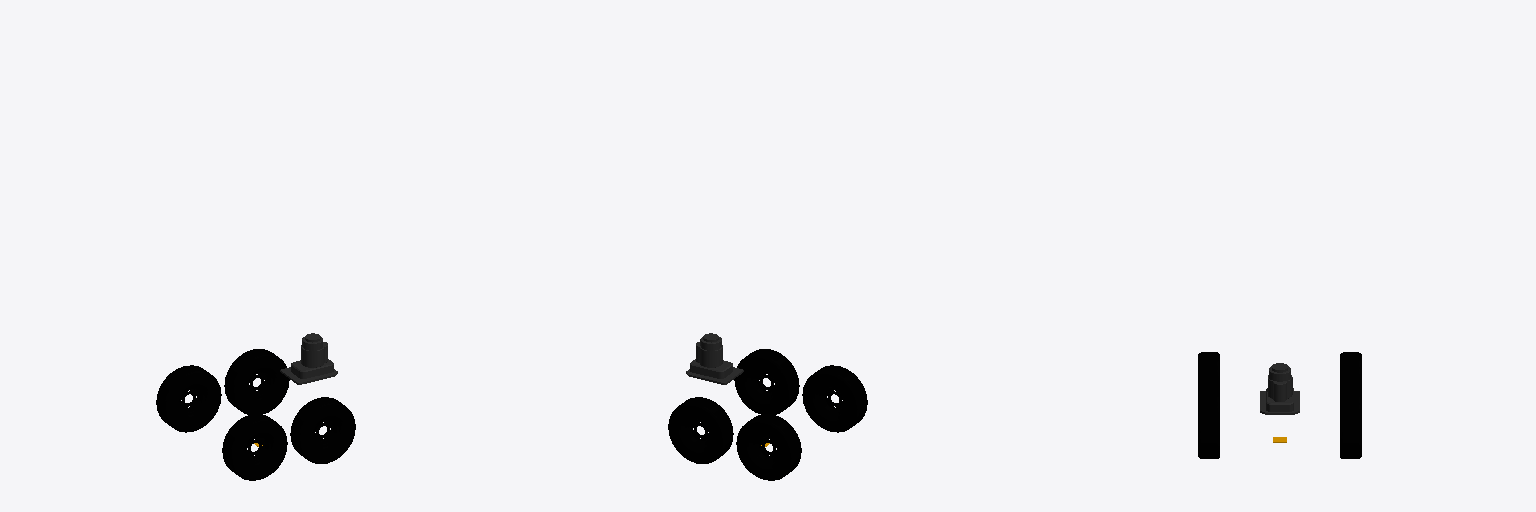
robot.urdf — WPV4_WPM2:
<?xml version="1.0"?>
<robot name="WPV4_WPM2">

  <!-- material -->
  <material name = "black">
    <color rgba = "0.01 0.01 0.01 1"/>
  </material>
  <material name = "grey">
    <color rgba = "0.2 0.2 0.2 1"/>
  </material>
  <material name = "light_grey">
    <color rgba = "0.5 0.5 0.5 1"/>
  </material>
  <material name = "blue">
    <color rgba = "0.2 0.2 0.9 1"/>
  </material>


<link name="base_footprint">
    <visual>
      <origin xyz="0 0 0" rpy="0 0 0" />
      <geometry>
        <box size="0.05 0.05 0.001" />
      </geometry>
      <material name="TransparentGreen" />
    </visual>
    <collision>
      <origin xyz="0 0 .1" rpy="0 0 0" />
      <geometry>
        <box size="0.76 0.5 .2"/>
      </geometry>
    </collision>
    <inertial>
    <mass value="10"/>
    <inertia ixx="0.4" ixy="0.0" ixz="0.0" iyy="0.4" iyz="0.0" izz="0.2"/>
    </inertial>
</link>

<joint name="base_joint" type="fixed">
  <origin xyz="0 0 0.09" rpy="0 0 0" />
  <parent link="base_footprint"/>
  <child link="base_link" />
</joint>

  <!-- base -->
  <link name="base_link">
  <visual>
   <geometry>
    <cylinder length="0.6" radius="0.0"/>
   </geometry>
   <origin rpy = "0 0 0" xyz = "0 0 0"/>
  </visual>
  </link>

  <!-- body -->
  <link name = "body_link">
    <visual>
      <geometry>
        <mesh filename="package://wpv4_bringup/meshes/body.dae" scale="1 1 1"/>
      </geometry>
      <origin rpy = "1.57 0 1.57" xyz = "-0.38 -0.25 0"/>
    </visual>
    <collision>
      <origin xyz="0 0 .15" rpy="0 0 0" />
      <geometry>
        <box size="0.76 0.5 0.095"/>
      </geometry>
    </collision>
    <inertial>
    <mass value="10"/>
    <inertia ixx="0.4" ixy="0.0" ixz="0.0" iyy="0.4" iyz="0.0" izz="0.2"/>
    </inertial>
  </link>
  <joint name = "base_to_body" type = "fixed">
    <parent link = "base_link"/>
    <child link = "body_link"/>
    <origin rpy="0 0 0" xyz="0 0 0"/> <!--pos-->
  </joint>
  <gazebo reference = "body_link">
            <turnGravityOff>false</turnGravityOff>
  </gazebo>

  <!-- wheel -->
  <link name = "lf_wheel">
    <visual>
      <geometry>
        <mesh filename="package://wpv4_bringup/meshes/wheel.dae" scale="1 1 1"/>
      </geometry>
      <origin rpy = "0 0 0" xyz = "-0.13  -0.04 -0.13"/>
      <material name = "black"/>
    </visual>
    <collision>
      <origin xyz="0 0 0" rpy="1.57 0 0" />
      <geometry>
        <cylinder radius="0.13" length="0.08"/>
      </geometry>
    </collision>
    <inertial>
    <mass value="10"/>
    <inertia ixx="0.4" ixy="0.0" ixz="0.0" iyy="0.4" iyz="0.0" izz="0.2"/>
    </inertial>
  </link>
  <joint name = "base_to_lf_wheal" type = "continuous">
    <axis rpy="0 0 0" xyz="0 1 0"/>
    <parent link = "base_link"/>
    <child link = "lf_wheel"/>
    <origin rpy="0 0 0" xyz="0.135 0.26 0.038"/> <!--pos to base-->
  </joint>
   <gazebo reference = "lf_wheel">
            <mu1 value = "1.0"/>
            <mu2 value = "1.0"/>
            <kp value = "10.0"/>
            <kd value = "1.0"/>
            <fdir1 value = "1 0 0"/>
            <turnGravityOff>true</turnGravityOff>
  </gazebo>

<link name = "rf_wheel">
  <visual>
    <geometry>
      <mesh filename="package://wpv4_bringup/meshes/wheel.dae" scale="1 1 1"/>
    </geometry>
    <origin rpy = "0 0 0" xyz = "-0.13  -0.04 -0.13"/>
    <material name = "black"/>
  </visual>
  <collision>
    <origin xyz="0 0 0" rpy="1.57 0 0" />
    <geometry>
      <cylinder radius="0.13" length="0.08"/>
    </geometry>
  </collision>
  <inertial>
  <mass value="10"/>
  <inertia ixx="0.4" ixy="0.0" ixz="0.0" iyy="0.4" iyz="0.0" izz="0.2"/>
  </inertial>
</link>
<joint name = "base_to_rf_wheal" type = "continuous">
  <axis rpy="0 0 0" xyz="0 -1 0"/>
  <parent link = "base_link"/>
  <child link = "rf_wheel"/>
  <origin rpy="0 0 3.14" xyz="0.135 -0.26 0.038"/> <!--pos-->
</joint>
 <gazebo reference = "rf_wheel">
            <mu1 value = "1.0"/>
            <mu2 value = "1.0"/>
            <kp value = "10.0"/>
            <kd value = "1.0"/>
            <fdir1 value = "1 0 0"/>
            <turnGravityOff>false</turnGravityOff>
        </gazebo>

<link name = "lb_wheel">
  <visual>
    <geometry>
      <mesh filename="package://wpv4_bringup/meshes/wheel.dae" scale="1 1 1"/>
    </geometry>
    <origin rpy = "0 0 0" xyz = "-0.13  -0.04 -0.13"/>
    <material name = "black"/>
  </visual>
  <collision>
    <origin xyz="0 0 0" rpy="1.57 0 0" />
    <geometry>
      <cylinder radius="0.13" length="0.08"/>
    </geometry>
  </collision>
  <inertial>
  <mass value="10"/>
  <inertia ixx="0.4" ixy="0.0" ixz="0.0" iyy="0.4" iyz="0.0" izz="0.2"/>
  </inertial>
</link>
<joint name = "base_to_lb_wheal" type = "continuous">
  <axis rpy="0 0 0" xyz="0 1 0"/>
  <parent link = "base_link"/>
  <child link = "lb_wheel"/>
  <origin rpy="0 0 0" xyz="-0.175 0.26 0.038"/> <!--pos to base-->
</joint>
 <gazebo reference = "lb_wheel">
            <mu1 value = "1.0"/>
            <mu2 value = "1.0"/>
            <kp value = "10.0"/>
            <kd value = "1.0"/>
            <fdir1 value = "1 0 0"/>
            <material>Gazebo/Black</material>
            <turnGravityOff>false</turnGravityOff>
        </gazebo>

<link name = "rb_wheel">
  <visual>
    <geometry>
      <mesh filename="package://wpv4_bringup/meshes/wheel.dae" scale="1 1 1"/>
    </geometry>
    <origin rpy = "0 0 0" xyz = "-0.13  -0.04 -0.13"/>
    <material name = "black"/>
  </visual>
  <collision>
    <origin xyz="0 0 0" rpy="1.57 0 0" />
    <geometry>
      <cylinder radius="0.13" length="0.08"/>
    </geometry>
  </collision>
  <inertial>
  <mass value="10"/>
  <inertia ixx="0.4" ixy="0.0" ixz="0.0" iyy="0.4" iyz="0.0" izz="0.2"/>
  </inertial>
</link>
<joint name = "base_to_rb_wheal" type = "continuous">
  <axis rpy="0 0 0" xyz="0 -1 0"/>
  <parent link = "base_link"/>
  <child link = "rb_wheel"/>
  <origin rpy="0 0 3.14" xyz="-0.175 -0.26 0.038"/> <!--pos-->
</joint>
 <gazebo reference = "rb_wheel">
            <mu1 value = "1.0"/>
            <mu2 value = "1.0"/>
            <kp value = "10.0"/>
            <kd value = "1.0"/>
            <fdir1 value = "1 0 0"/>
            <material>Gazebo/Black</material>
            <turnGravityOff>false</turnGravityOff>
        </gazebo>


<!-- ****manipulator ****-->
  <link name = "wpm2_joint_1">
    <visual>
        <geometry>
            <mesh filename="package://wpv4_bringup/meshes/m2_base.stl" scale="1 1 1"/>
        </geometry>
        <material name = "grey"/>
        <origin rpy = "1.57 0 1.57" xyz = "-0.16 -0.075 0"/>
    </visual>
</link>
  <joint name = "base_mani" type = "fixed">
    <parent link = "base_link"/>
    <child link = "wpm2_joint_1"/>
    <origin xyz = "0.24 0 .16"/>
</joint>
<!-- mani_part_2 -->
  <link name = "wpm2_joint_2">
    <visual>
        <geometry>
            <mesh filename="package://wpm2_bringup/meshes/wpm2_joint_2.stl" scale="1 1 1"/>
        </geometry>
        <material name = "light_grey"/>
        <origin rpy = "-1.57 0 1.57" xyz = "0.135 -0.07 0.1285"/>
    </visual>
</link>
    <joint name = "joint1_joint2" type = "revolute">
    <parent link = "wpm2_joint_1"/>
    <child link = "wpm2_joint_2"/>
    <axis xyz = "0 0 1"/>
    <origin xyz = "0 0 0.1585"/>
    <limit effort = "1000.0" lower="-3.14" upper="3.14" velocity="0.5"/>
</joint>

<!-- mani_part_3 -->
<link name = "wpm2_joint_3">
    <visual>
        <geometry>
            <mesh filename="package://wpm2_bringup/meshes/wpm2_joint_3.stl" scale="1 1 1"/>
        </geometry>
        <material name = "grey"/>
        <origin rpy = "1.57 0 1.57" xyz = "-0.12 -0.08 -0.048"/>
    </visual>
</link>
    <joint name = "joint2_joint3" type = "revolute">
    <parent link = "wpm2_joint_2"/>
    <child link = "wpm2_joint_3"/>
    <axis xyz = "0 -1 0"/>
    <origin xyz = "0 0 0.0825"/>
    <limit effort = "1000.0" lower="-3.14" upper="3.14" velocity="0.5"/>
</joint>

<!-- mani_part_4 -->
<link name = "wpm2_joint_4">
    <visual>
        <geometry>
            <mesh filename="package://wpm2_bringup/meshes/wpm2_joint_4.stl" scale="1 1 1"/>
        </geometry>
        <material name = "light_grey"/>
        <origin rpy = "0 1.57 0" xyz = "-0.116 -0.057 0.122"/>
    </visual>
</link>
    <joint name = "joint3_joint4" type = "revolute">
    <parent link = "wpm2_joint_3"/>
    <child link = "wpm2_joint_4"/>
    <axis xyz = "0 0 1"/>
    <origin xyz = "0 0 0.197"/>
    <limit effort = "1000.0" lower="-3.14" upper="3.14" velocity="0.5"/>
</joint>

<!-- mani_part_5 -->
<link name = "wpm2_joint_5">
    <visual>
        <geometry>
            <mesh filename="package://wpm2_bringup/meshes/wpm2_joint_5.stl" scale="1 1 1"/>
        </geometry>
        <material name = "grey"/>
        <origin rpy = "0 -1.57 0" xyz = "0.107 -0.053 -0.033"/>
    </visual>
</link>
    <joint name = "joint4_joint5" type = "revolute">
    <parent link = "wpm2_joint_4"/>
    <child link = "wpm2_joint_5"/>
    <axis xyz = "1 0 0"/>
    <origin xyz = "0 0 0.076"/>
    <limit effort = "1000.0" lower="-3.14" upper="3.14" velocity="0.5"/>
</joint>

<!-- mani_part_6 -->
<link name = "wpm2_joint_6">
    <visual>
        <geometry>
            <mesh filename="package://wpm2_bringup/meshes/wpm2_joint_4.stl" scale="1 1 1"/>
        </geometry>
        <material name = "light_grey"/>
        <origin rpy = "0 1.57 1.57" xyz = "0.055 -0.115 0.122"/>
    </visual>
</link>
    <joint name = "joint5_joint6" type = "revolute">
    <parent link = "wpm2_joint_5"/>
    <child link = "wpm2_joint_6"/>
    <axis xyz = "0 0 1"/>
    <origin xyz = "0 0 0.197"/>
    <limit effort = "1000.0" lower="-3.14" upper="3.14" velocity="0.5"/>
</joint>

<!-- mani_palm -->
<link name = "wpm2_palm">
    <visual>
        <geometry>
            <mesh filename="package://wpm2_bringup/meshes/wpm2_palm.stl" scale="1 1 1"/>
        </geometry>
        <material name = "grey"/>
        <origin rpy = "0 -1.57 1.57" xyz = "0.0566 0.0985 -0.034"/>
    </visual>
</link>
    <joint name = "joint6_palm" type = "revolute">
    <parent link = "wpm2_joint_6"/>
    <child link = "wpm2_palm"/>
    <axis xyz = "0 1 0"/>
    <origin xyz = "0 0 0.076"/>
    <limit effort = "1000.0" lower="-3.14" upper="3.14" velocity="0.5"/>
</joint>

<!-- finger -->
    <link name = "wpm2_left_finger">
    <visual>
        <geometry>
            <mesh filename="package://wpm2_bringup/meshes/wpm2_finger.stl" scale="0.001 0.001 0.001"/>
        </geometry>
            <material name = "light_grey"/>
        <origin rpy = "1.57 0 -1.57" xyz = ".021 0.005 -0.005"/>
    </visual>
</link>
<joint name = "wpm2_palm_finger" type = "revolute">
    <parent link = "wpm2_palm"/>
    <child link = "wpm2_left_finger"/>
    <origin xyz = "0 0.06 0.219"/>
    <axis xyz = "-1 0 0"/>
    <limit effort = "1000.0" lower="0" upper="1.0" velocity="0.5"/>
</joint>

    <link name = "wpm2_right_finger">
    <visual>
        <geometry>
            <mesh filename="package://wpm2_bringup/meshes/wpm2_finger.stl" scale="0.001 0.001 0.001"/>
        </geometry>
            <material name = "light_grey"/>
        <origin rpy = "1.57 0 1.57" xyz = "-0.0175 -0.005 -0.005"/>
    </visual>
</link>
<joint name = "wpm2_palm_right_finger" type = "revolute">
    <parent link = "wpm2_palm"/>
    <child link = "wpm2_right_finger"/>
    <origin xyz = "0 -0.06 0.219"/>
    <axis xyz = "1 0 0"/>
    <limit effort = "1000.0" lower="0" upper="1.0" velocity="0.5"/>
    <mimic joint = "wpm2_palm_finger" multiplier = "1" offset = "0"/>
</joint>
<!-- *****************-->

<!-- Lidar -->
<link name = "laser">
  <visual>
   <geometry>
    <cylinder length="0" radius="0"/>
   </geometry>
   <origin rpy = "0 0 0" xyz = "0 0 0"/>
  </visual>
  <collision>
    <origin xyz="0 0 0" rpy="0 0 0" />
    <geometry>
      <cylinder radius="0.03" length="0.03"/>
    </geometry>
  </collision>
  <inertial>
  <mass value="10"/>
  <inertia ixx="0.4" ixy="0.0" ixz="0.0" iyy="0.4" iyz="0.0" izz="0.2"/>
  </inertial>
</link>
<joint name="laser_joint" type="fixed">
    <origin rpy="0 0 0" xyz="0.2 0 0"  /> <!--pos-->
    <parent link="base_link" />
    <child link="laser" />
</joint>

<!-- velodyne -->
<link name = "velo_link">
  <visual>
   <geometry>
    <cylinder length="0.00" radius="0.00"/>
   </geometry>
   <origin rpy = "0 0 0" xyz = "0 0 0"/>
  </visual>
</link>
<joint name="velodyne_joint" type="fixed">
    <origin rpy="0 0 0" xyz="0.2 0 1.7"  /> <!--pos-->
    <parent link="base_link" />
    <child link="velo_link" />
</joint>

<!-- Kinect -->
<!-- Kinect -->
<link name = "kinect2_dock">
  <visual>
   <geometry>
    <!-- <box size=".01 .25 .07"/>-->
    <box size="0 0 0"/>
   </geometry>
   <origin rpy = "0 0 0" xyz = "0 0 0"/>
   <material name = "red"/>
  </visual>
</link>
<joint name="kinect_height" type="prismatic">
    <parent link="base_footprint"/>
    <child link="kinect2_dock"/>
    <limit effort="1000.0" lower="0" upper="1.7" velocity="0.5"/>
    <origin xyz="0.174 0 0" rpy="0 -1.5707963 0"/>
  </joint>

<link name = "kinect2_ir_optical_frame">
  <visual>
   <geometry>
    <!-- <box size=".25 .04 .07"/>-->
    <box size="0 0 0"/>
   </geometry>
   <origin xyz = "0 0 0" rpy = "0 0 0"/>
   <material name = "blue"/>
  </visual>
</link>

<joint name="kinect_pitch" type="revolute">
    <axis xyz="1 0 0"/>
    <limit effort="1000.0" lower="-1.57" upper="1.57" velocity="0.5"/>
    <origin xyz="0 0 0" rpy="3.1415926 0 -1.5707963" /> <!--pos-->
    <parent link="kinect2_dock" />
    <child link="kinect2_ir_optical_frame" />
</joint>
<!-- <joint name="kinect_joint" type="fixed">
    <origin xyz="0.174 0 1.35" rpy="-1.5707963 0 -1.5707963" /> 
    <parent link="base_link" />
    <child link="kinect2_ir_optical_frame" />
</joint>-->

<link name = "kinect2_rgb_optical_frame">
  <visual>
   <geometry>
    <box size="0 0 0"/>
   </geometry>
   <origin rpy = "0 0 0" xyz = "0 0 0"/>
   <material name = "blue"/>
  </visual>
</link>
<joint name="kinect_hd_joint" type="fixed">
    <origin xyz="0 0 0" rpy="0 0 0" /> <!--pos-->
    <parent link="kinect2_ir_optical_frame" />
    <child link="kinect2_rgb_optical_frame" />
</joint>

</robot>

--- What the picture shows (computed from the rendered views, not written in the file) ---
3 views of the same robot in one strip: view 1: azimuth 30°, elevation 25°; view 2: azimuth 150°, elevation 25°; view 3: azimuth 270°, elevation 25° (orthographic).
Robot: WPV4_WPM2 — 21 links, 20 joints (9 revolute, 4 continuous, 1 prismatic, 6 fixed); root link base_footprint; default pose: all joints at 0.
Links seen in each view (by area): view 1: rf_wheel, rb_wheel, lb_wheel, lf_wheel, wpm2_joint_1; view 2: lf_wheel, lb_wheel, rb_wheel, rf_wheel, wpm2_joint_1; view 3: wpm2_joint_1, lf_wheel, rf_wheel, rb_wheel, lb_wheel.
Boxes of the visible links, x1,y1,x2,y2 form: rf_wheel: (290, 397, 355, 463); rb_wheel: (222, 414, 287, 480); lb_wheel: (156, 365, 221, 432); lf_wheel: (224, 349, 289, 414); wpm2_joint_1: (280, 333, 337, 384); lf_wheel: (668, 397, 733, 463); lb_wheel: (736, 414, 801, 480); rb_wheel: (802, 365, 867, 432); rf_wheel: (734, 349, 799, 414); wpm2_joint_1: (686, 333, 743, 384); wpm2_joint_1: (1260, 363, 1299, 414); lf_wheel: (1340, 388, 1361, 458); rf_wheel: (1198, 388, 1219, 458); rb_wheel: (1198, 352, 1219, 389); lb_wheel: (1340, 352, 1361, 389).
Bounding box of the posed robot: 0.6257 × 0.6002 × 2 m (x, y, z).
Meshes: 9 distinct files referenced, 5 mesh visuals loaded (1 binary STL, 1 Collada DAE); not drawn: 8 (reference not matched to a file when rendering), 1 (file found but could not be loaded).